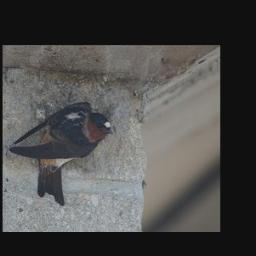Swallow: (9, 99, 115, 205)
